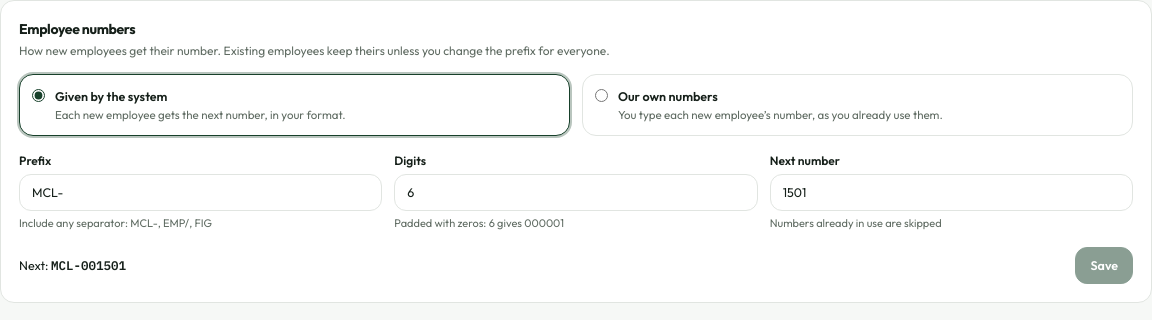
Employee numbers card › says what is wrong and will not save it
The image size is (1152, 320).
Replace the text in the field labelled "Prefix Include any separator: MCL-, EMP/, FIG" with "MC L". click: (201, 192)
box: left=19, top=174, right=382, bottom=211
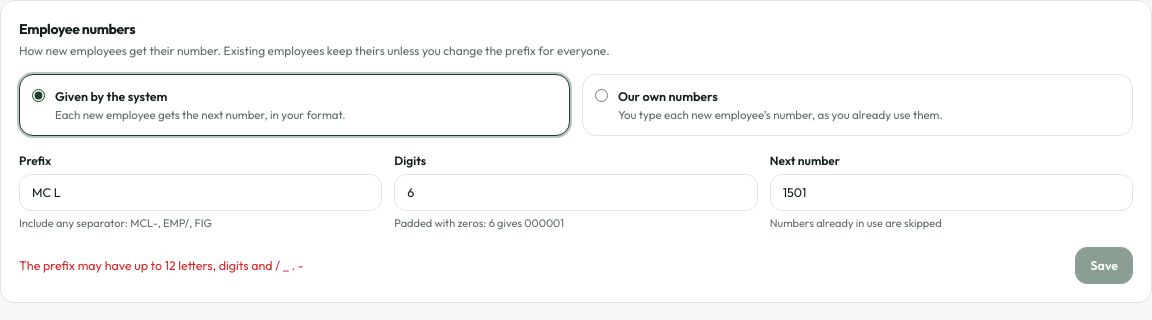
Expected: the button "Save" is disabled, left=1076, top=247, right=1133, bottom=284
Now the text "The prefix may have up to 12 letters, digits and / _ . -" is shown, box left=19, top=257, right=304, bottom=273
